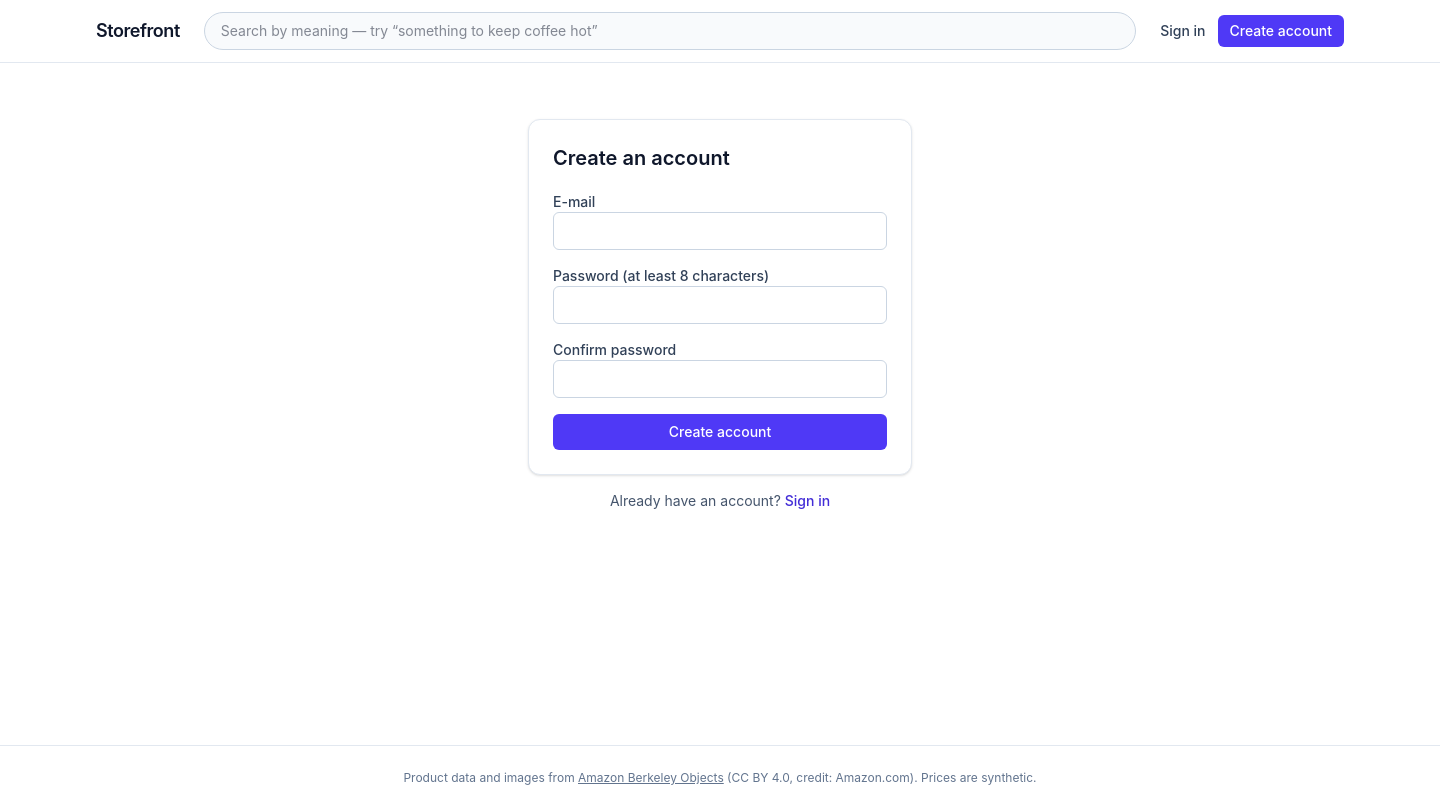
Test case: register › rejects mismatched passwords locally and shows server errors
The image size is (1440, 810).
Expected: the header is shown, x1=0 y1=0 x2=1439 y2=63
In the field labelled "E-mail": (720, 231) x1=553 y1=212 x2=887 y2=250, type "bob@gmail.com"
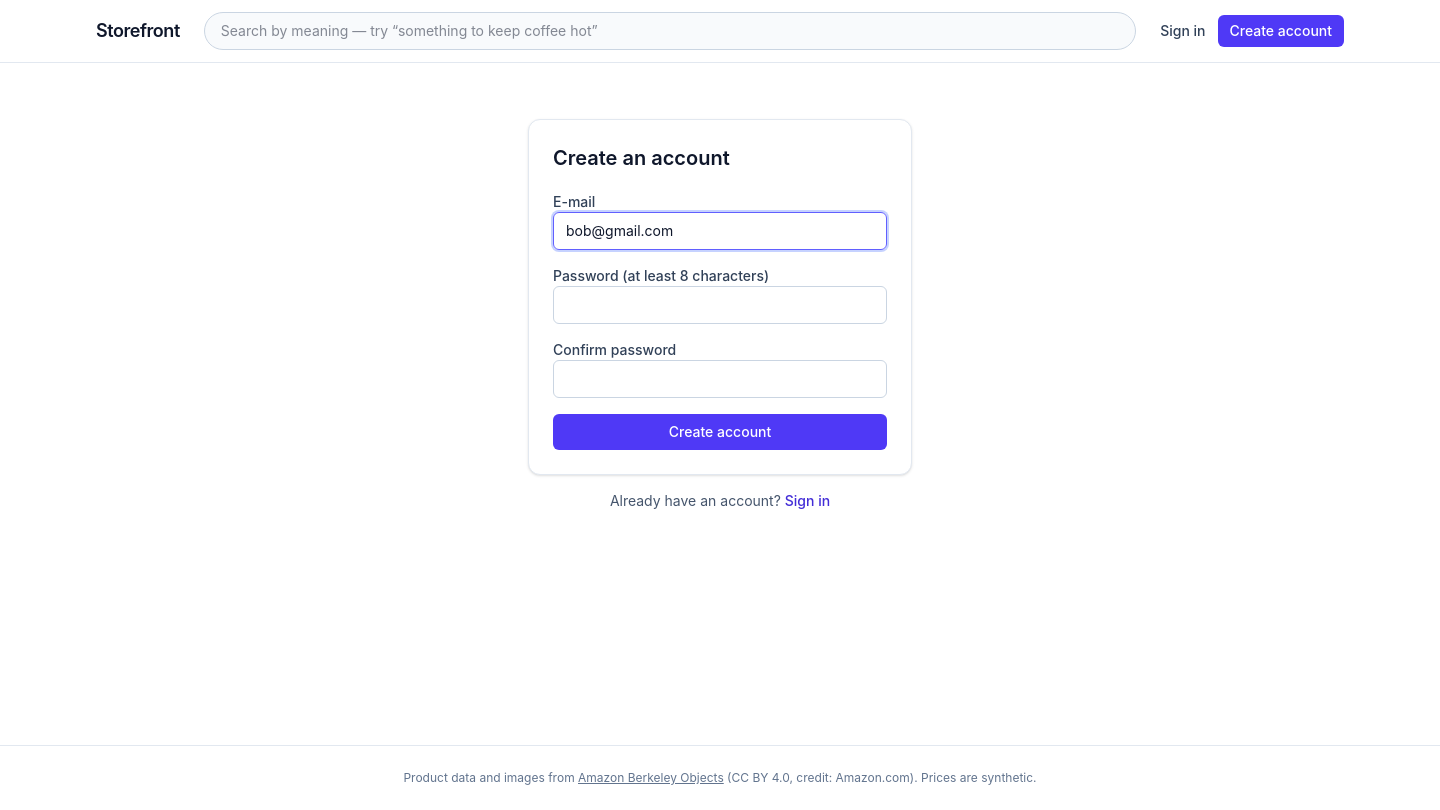
In the password field labelled "Password (at least 8 characters)": (720, 305) x1=553 y1=286 x2=887 y2=324, type "correct-horse-battery"
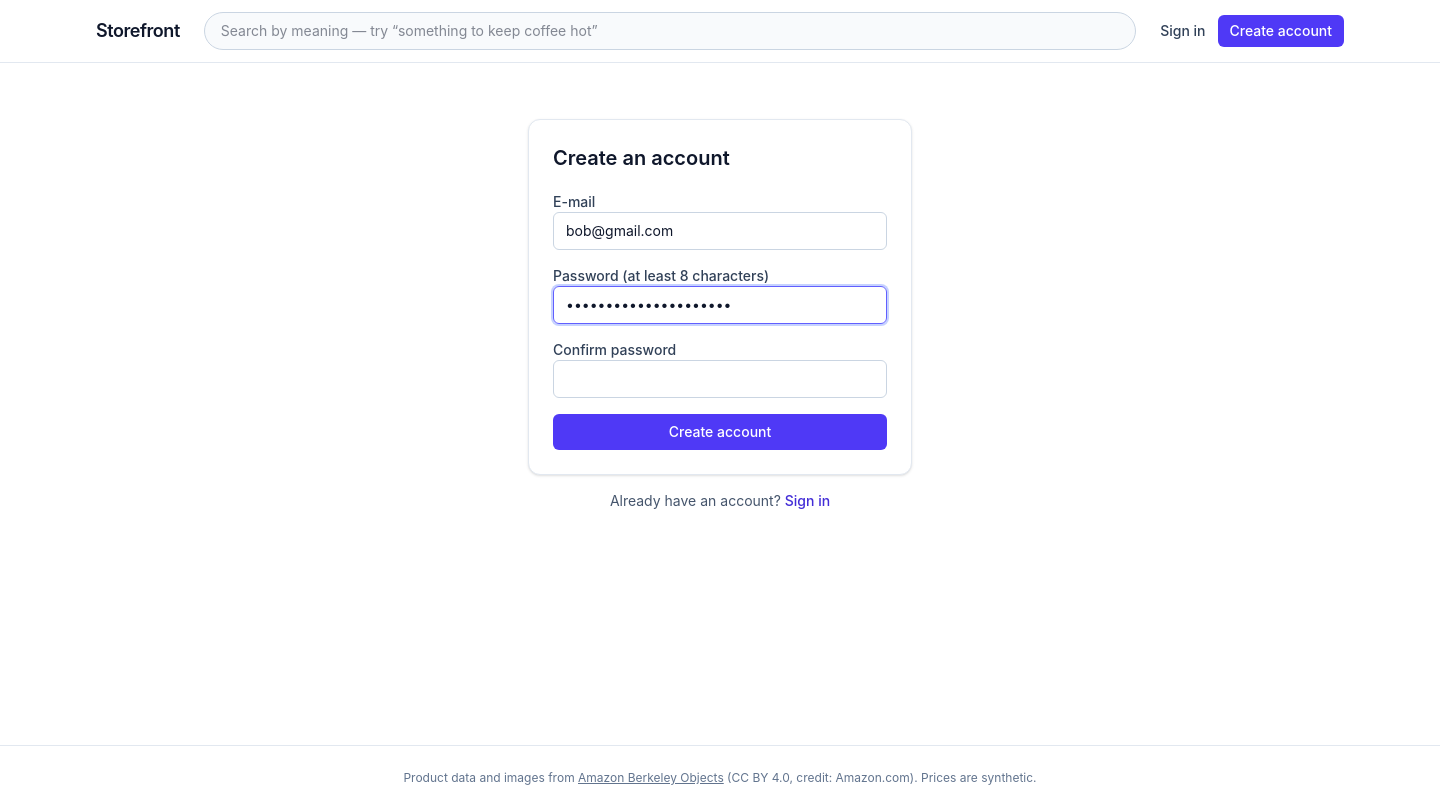
In the password field labelled "Confirm password": (720, 379) x1=553 y1=360 x2=887 y2=398, type "different-password"
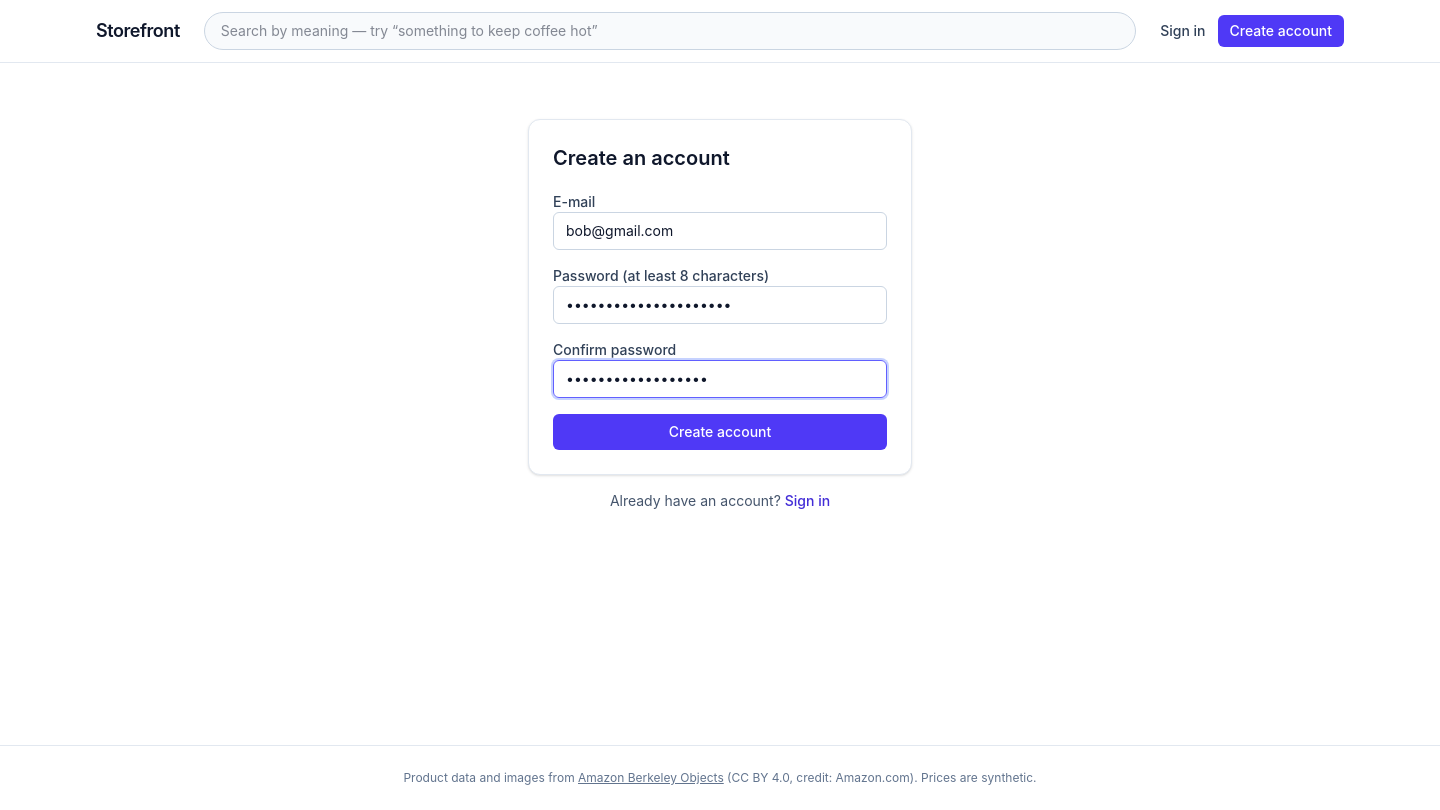
Click the button "Create account": (720, 432) x1=553 y1=414 x2=887 y2=450
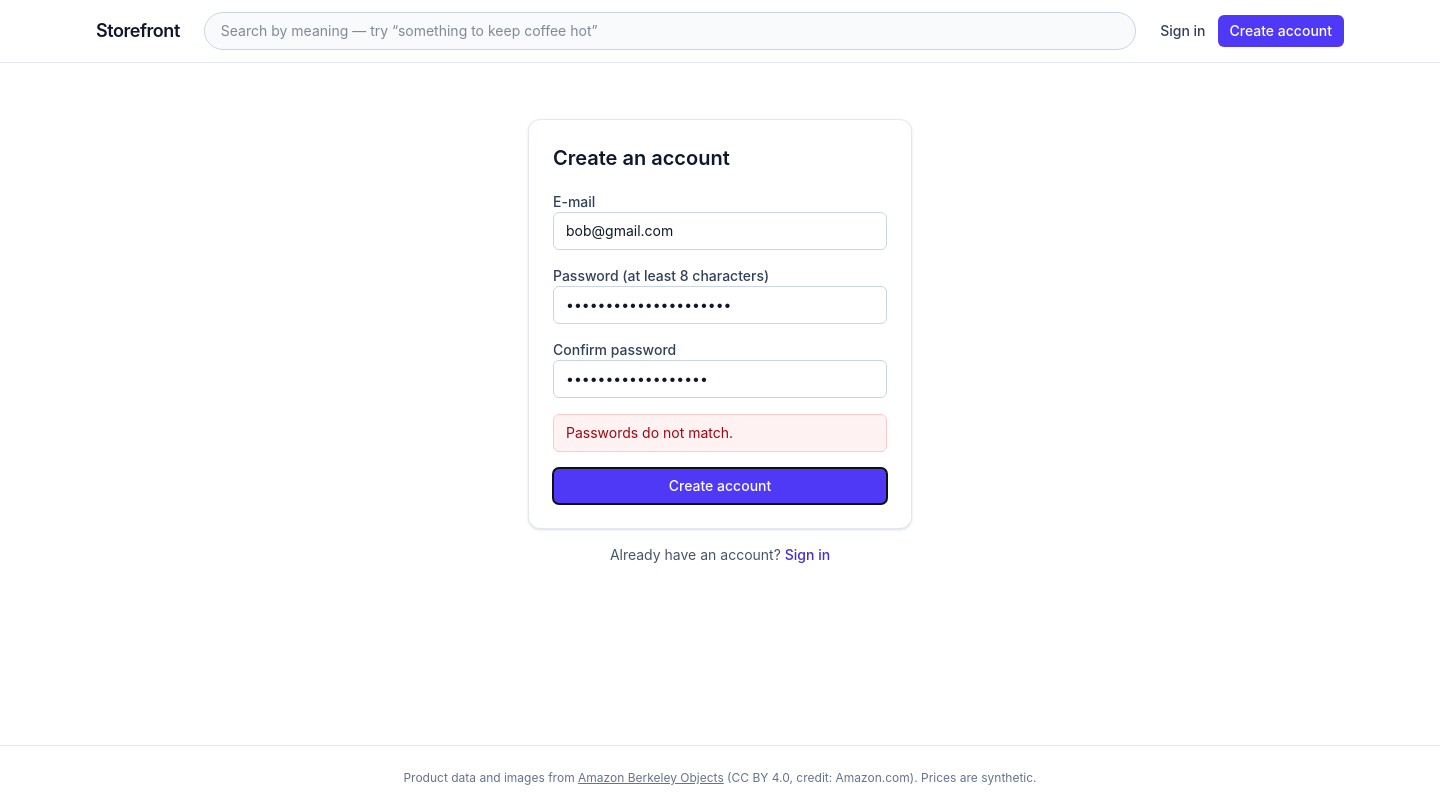
Expected: the message reads "Passwords do not match.", x1=566 y1=424 x2=733 y2=441
In the password field labelled "Confirm password": (720, 379) x1=553 y1=360 x2=887 y2=398, type "correct-horse-battery"
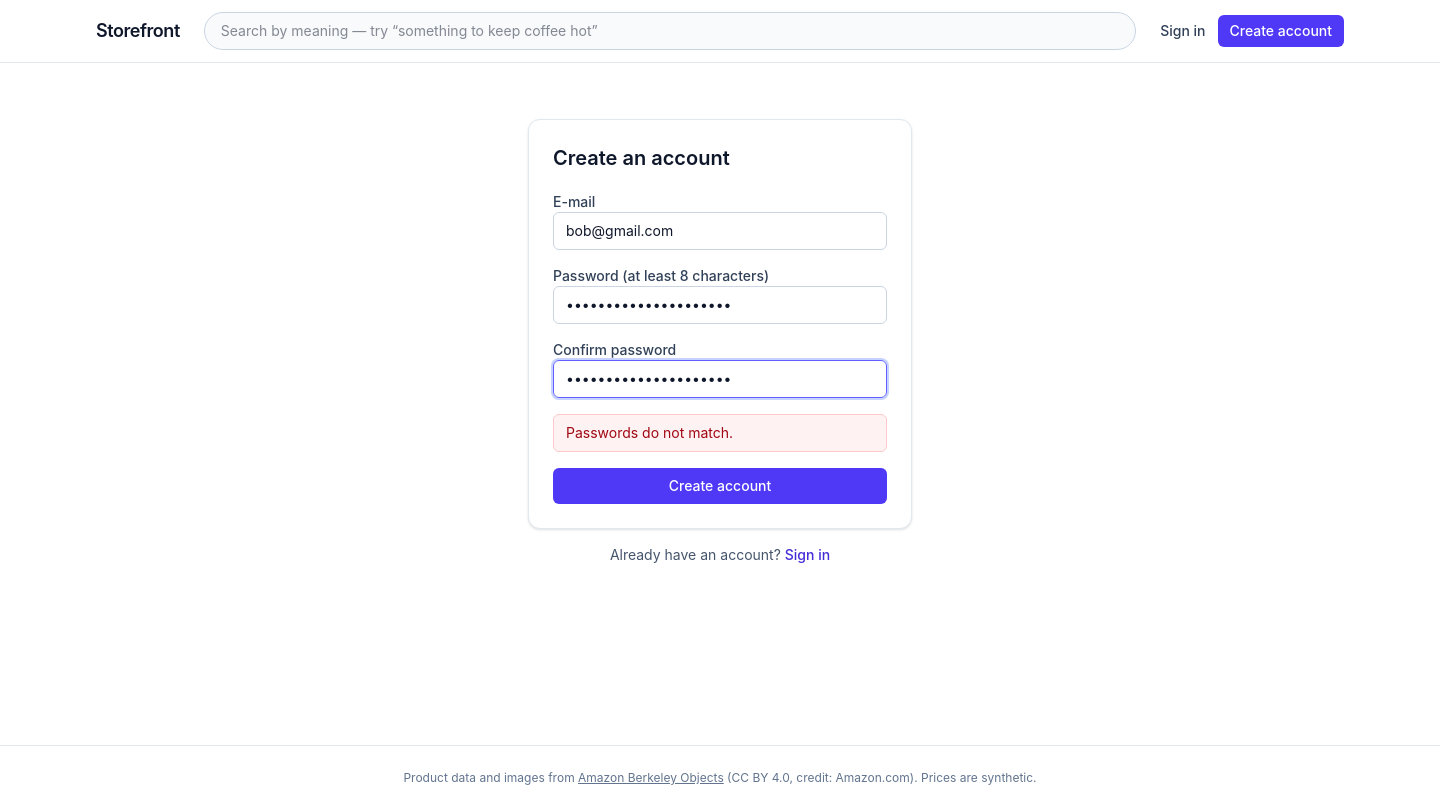
Click the button "Create account": (720, 486) x1=553 y1=468 x2=887 y2=504
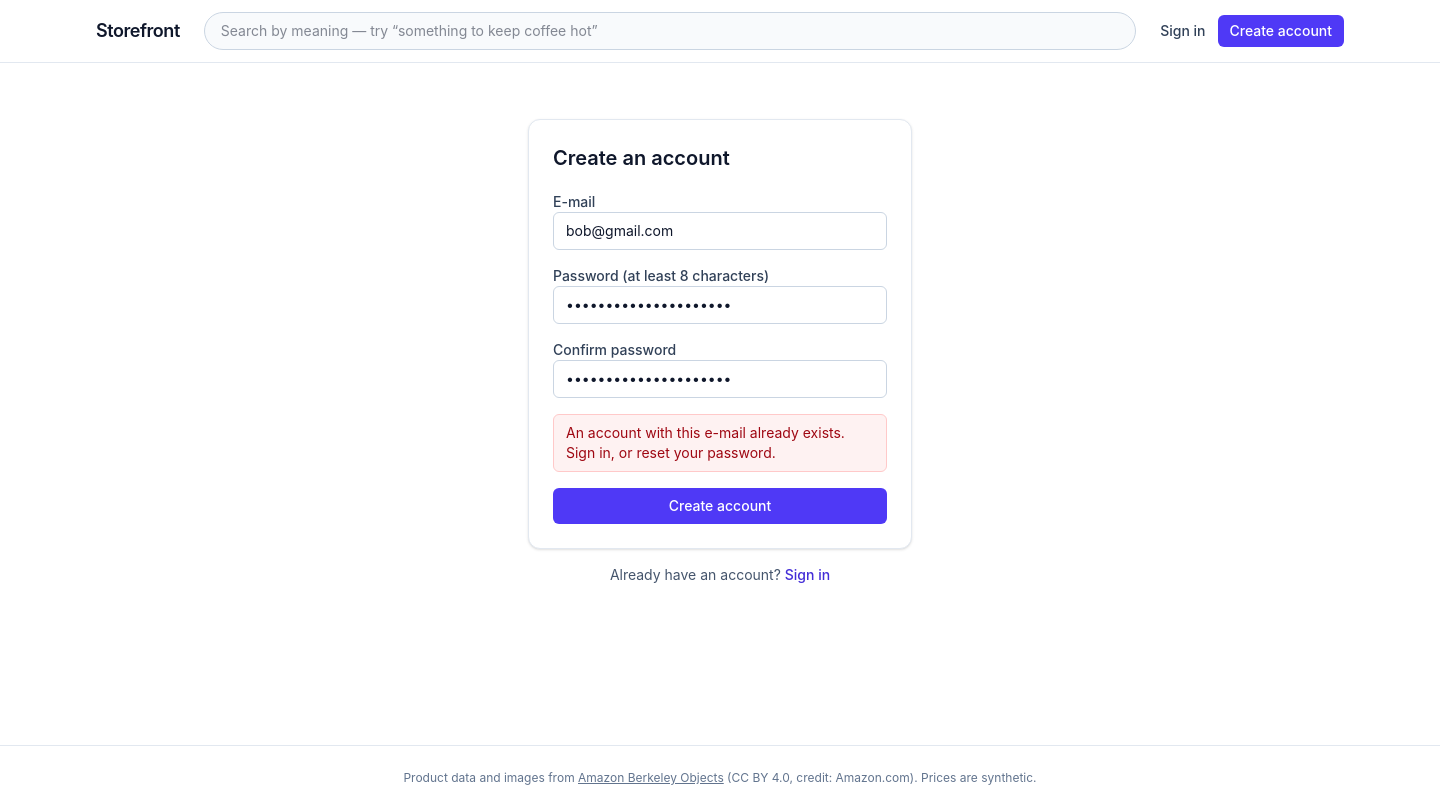
Expected: the text "An account with this e-mail already exists. Sign in, or reset your password." is shown, x1=553 y1=414 x2=887 y2=472
